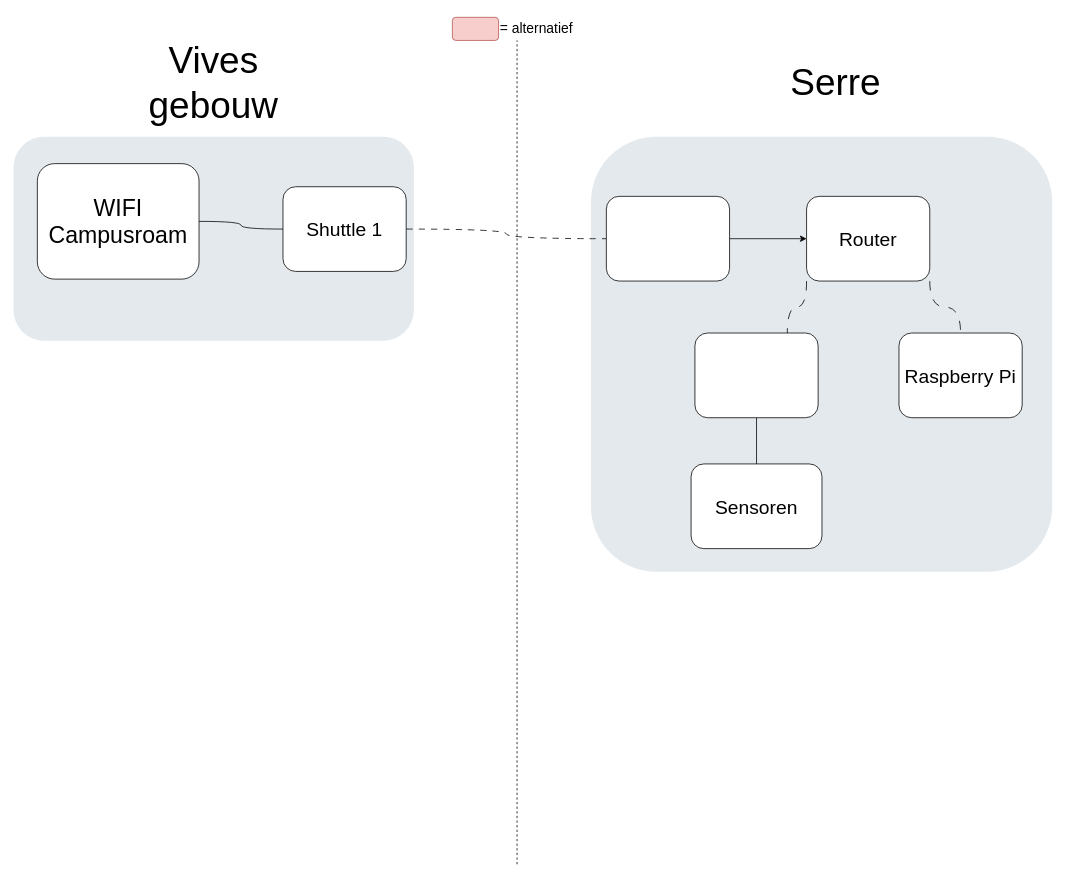
Image size: 1065x879. Some labels were removed from this diagram. The shapes that lost their labels are listed below. From the top down, each one's box as (x1, y1, x2, y2) in pixels, then its label:
(606, 196, 730, 281): Shuttle 2
(694, 332, 818, 418): ESP32 (Wifi)
